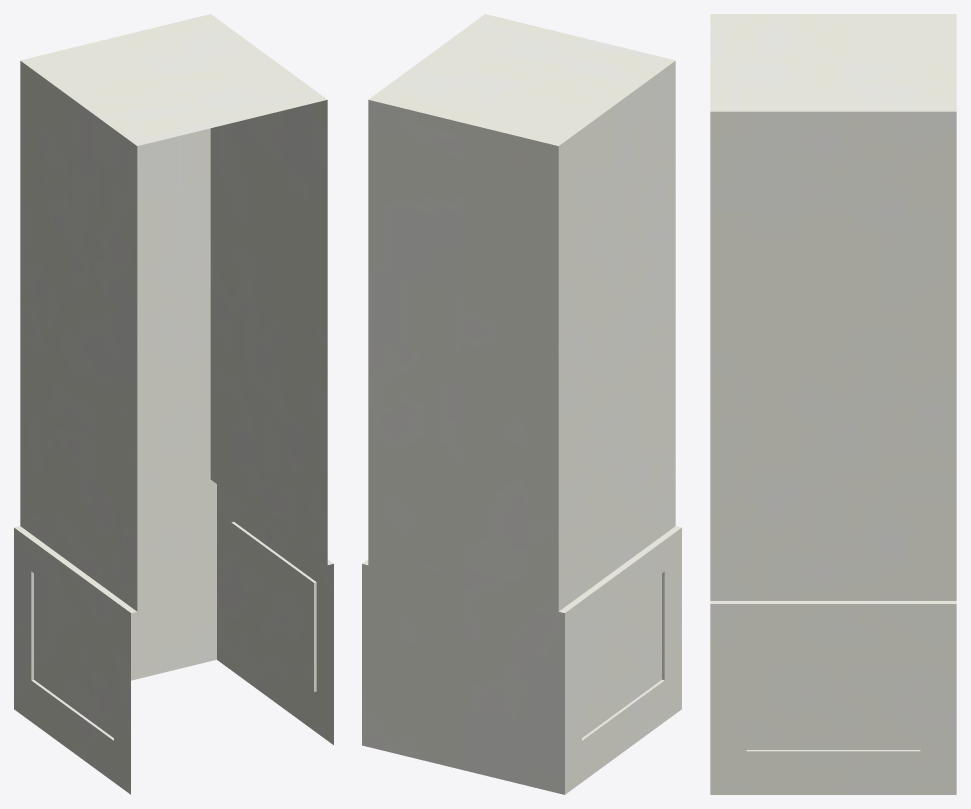
File: Wall 1 sided.fbx
The picture shows the model from 3 angles, left to right: view 1: azimuth 30°, elevation 25°; view 2: azimuth 150°, elevation 25°; view 3: azimuth 270°, elevation 25°; orthographic projection. The views are drawn at different scales.
Parts seen in each view (by area): view 1: Wall 1 sided; view 2: Wall 1 sided; view 3: Wall 1 sided.
Part boxes in pixels (<box>): Wall 1 sided: <box>14,14,333,794</box>; Wall 1 sided: <box>362,14,681,794</box>; Wall 1 sided: <box>710,14,956,794</box>.
Bounding box in the file's own units: 1 × 3.05 × 1.
Materials: 1 (1 with a texture image).
